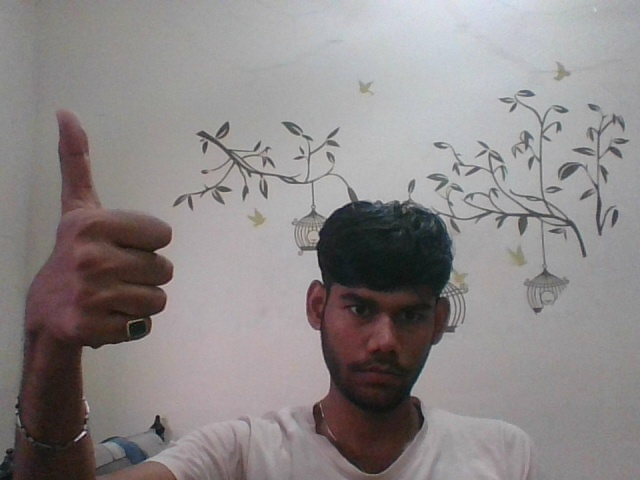Yes: (29, 103, 197, 358)
